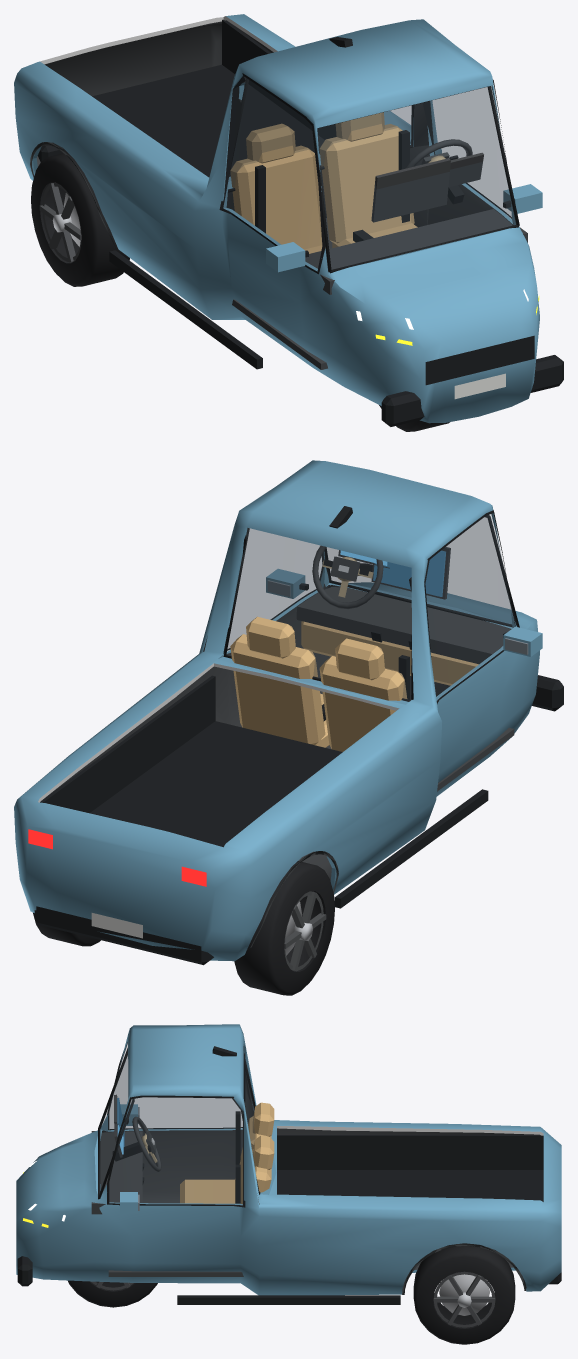
The model's file is fleet-trike.glb.
3 views of the same model, one above another, from view 1: azimuth 30°, elevation 25°; view 2: azimuth 150°, elevation 25°; view 3: azimuth 270°, elevation 25° (orthographic). The views are drawn at different scales.
Parts seen in each view (by area): view 1: Body, Surface_CarRoot_Glass, Surface_CarRoot_BlackTrim, Interior_CarRoot_InteriorLeather, Interior_CarRoot_InteriorDark, WheelRearR_Tyre, Surface_CarRoot_Paint, Interior_CarRoot_BlackTrim, Surface_WheelRearR_Rim, Surface_CarRoot_Plate, InteriorSteeringWheel; view 2: Body, Surface_CarRoot_BlackTrim, Surface_CarRoot_Glass, Interior_CarRoot_InteriorLeather, Interior_CarRoot_InteriorDark, WheelRearR_Tyre, Surface_WheelRearR_Rim, InteriorCenterScreen, Surface_CarRoot_Paint, InteriorSteeringWheel, Surface_CarRoot_Taillight, Surface_CarRoot_Plate; view 3: Body, Surface_CarRoot_BlackTrim, Surface_CarRoot_Glass, WheelRearL_Tyre, Interior_CarRoot_InteriorLeather, Interior_CarRoot_InteriorDark, WheelFrontL_Tyre, Surface_WheelRearL_Rim, WheelRearL_BrakeDisc, Interior_CarRoot_BlackTrim, Surface_CarRoot_Paint, Surface_CarRoot_Cladding (+1 smaller).
Part boxes in pixels (x1,y1,x2,y2): Body: [14, 14, 539, 423]; Surface_CarRoot_Glass: [223, 77, 515, 270]; Surface_CarRoot_BlackTrim: [37, 19, 563, 426]; Interior_CarRoot_InteriorLeather: [230, 112, 414, 253]; Interior_CarRoot_InteriorDark: [232, 152, 527, 369]; WheelRearR_Tyre: [31, 152, 129, 286]; Surface_CarRoot_Paint: [266, 184, 542, 272]; Interior_CarRoot_BlackTrim: [255, 130, 464, 242]; Surface_WheelRearR_Rim: [39, 182, 81, 262]; Surface_CarRoot_Plate: [454, 373, 505, 399]; InteriorSteeringWheel: [405, 139, 472, 168]; Body: [14, 460, 539, 961]; Surface_CarRoot_BlackTrim: [34, 506, 563, 965]; Surface_CarRoot_Glass: [226, 514, 514, 699]; Interior_CarRoot_InteriorLeather: [230, 616, 478, 751]; Interior_CarRoot_InteriorDark: [296, 547, 514, 791]; WheelRearR_Tyre: [234, 861, 334, 995]; Surface_WheelRearR_Rim: [284, 891, 326, 971]; InteriorCenterScreen: [373, 550, 445, 596]; Surface_CarRoot_Paint: [266, 569, 542, 656]; InteriorSteeringWheel: [312, 545, 383, 609]; Surface_CarRoot_Taillight: [28, 829, 206, 886]; Surface_CarRoot_Plate: [91, 913, 142, 938]; Body: [16, 1024, 561, 1295]; Surface_CarRoot_BlackTrim: [17, 1042, 561, 1304]; Surface_CarRoot_Glass: [100, 1043, 254, 1204]; WheelRearL_Tyre: [413, 1243, 515, 1344]; Interior_CarRoot_InteriorLeather: [180, 1102, 274, 1204]; Interior_CarRoot_InteriorDark: [91, 1094, 243, 1276]; WheelFrontL_Tyre: [68, 1280, 157, 1307]; Surface_WheelRearL_Rim: [433, 1271, 495, 1327]; WheelRearL_BrakeDisc: [439, 1274, 489, 1315]; Interior_CarRoot_BlackTrim: [112, 1111, 240, 1203]; Surface_CarRoot_Paint: [120, 1104, 137, 1213]; Surface_CarRoot_Cladding: [402, 1243, 526, 1294].
Size of the model in its own units: 1.55 by 1.87 by 3.68.
